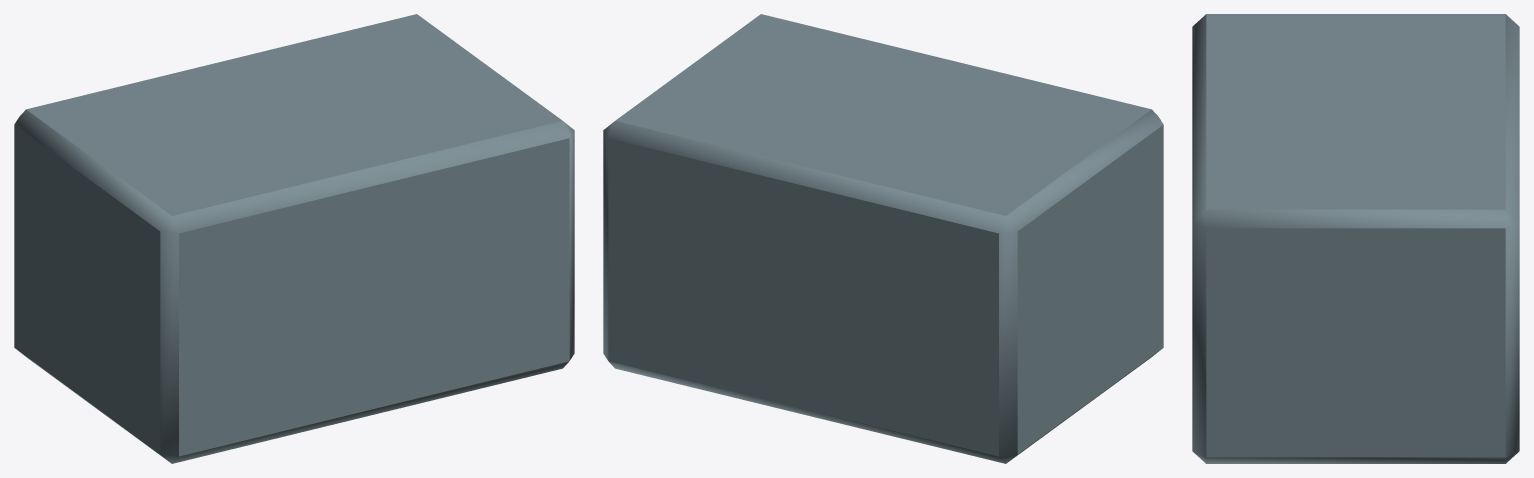
File: display-riser.glb
3 views of the same model, side by side, from view 1: azimuth 30°, elevation 25°; view 2: azimuth 150°, elevation 25°; view 3: azimuth 270°, elevation 25° (orthographic). The views are drawn at different scales.
Visible parts, largest first — view 1: acrylic_riser; view 2: acrylic_riser; view 3: acrylic_riser.
Part boxes in pixels (x1,y1,x2,y2): acrylic_riser: (14, 14, 574, 463); acrylic_riser: (603, 14, 1163, 463); acrylic_riser: (1192, 14, 1519, 463).
Bounding box in the file's own units: 0.42 × 0.244 × 0.28.
